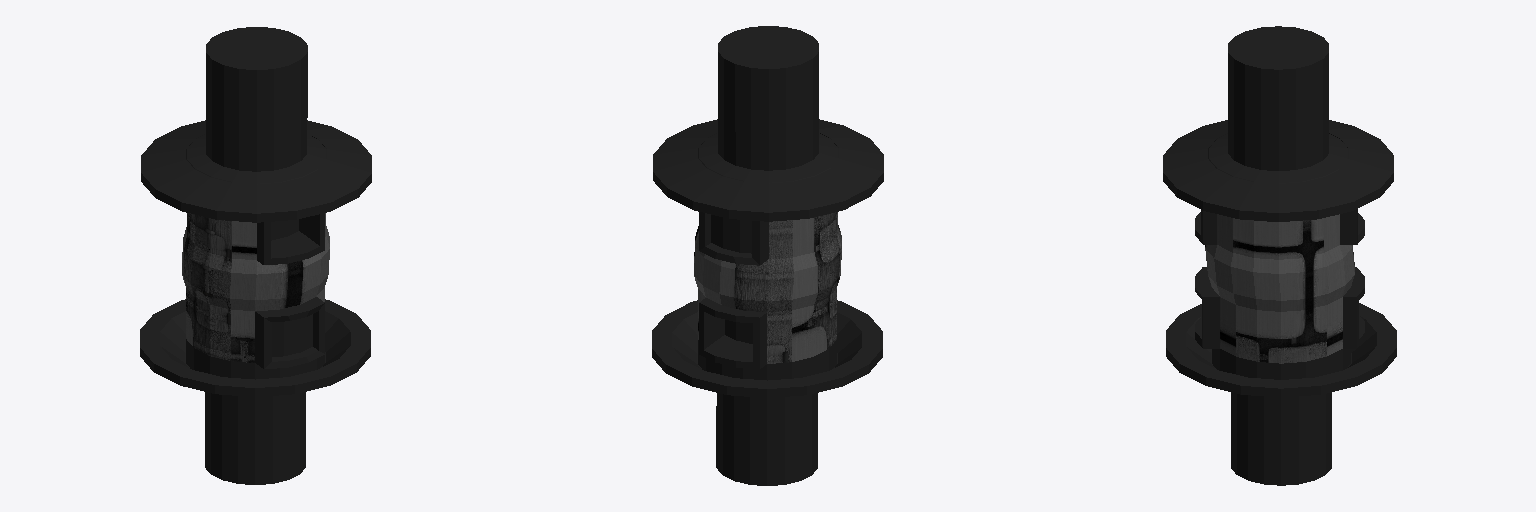
3 renders of one model, left to right at view 1: azimuth 30°, elevation 25°; view 2: azimuth 150°, elevation 25°; view 3: azimuth 270°, elevation 25°, orthographic.
Visible parts, largest first — view 1: Connector_3; view 2: Connector_3; view 3: Connector_3.
Part boxes in pixels (bbox=[...]): Connector_3: bbox=[140, 27, 371, 484]; Connector_3: bbox=[652, 26, 883, 485]; Connector_3: bbox=[1163, 26, 1396, 485].
Bounding box in the file's own units: 1.66 × 3.25 × 1.65.
2 materials, 1 textured.